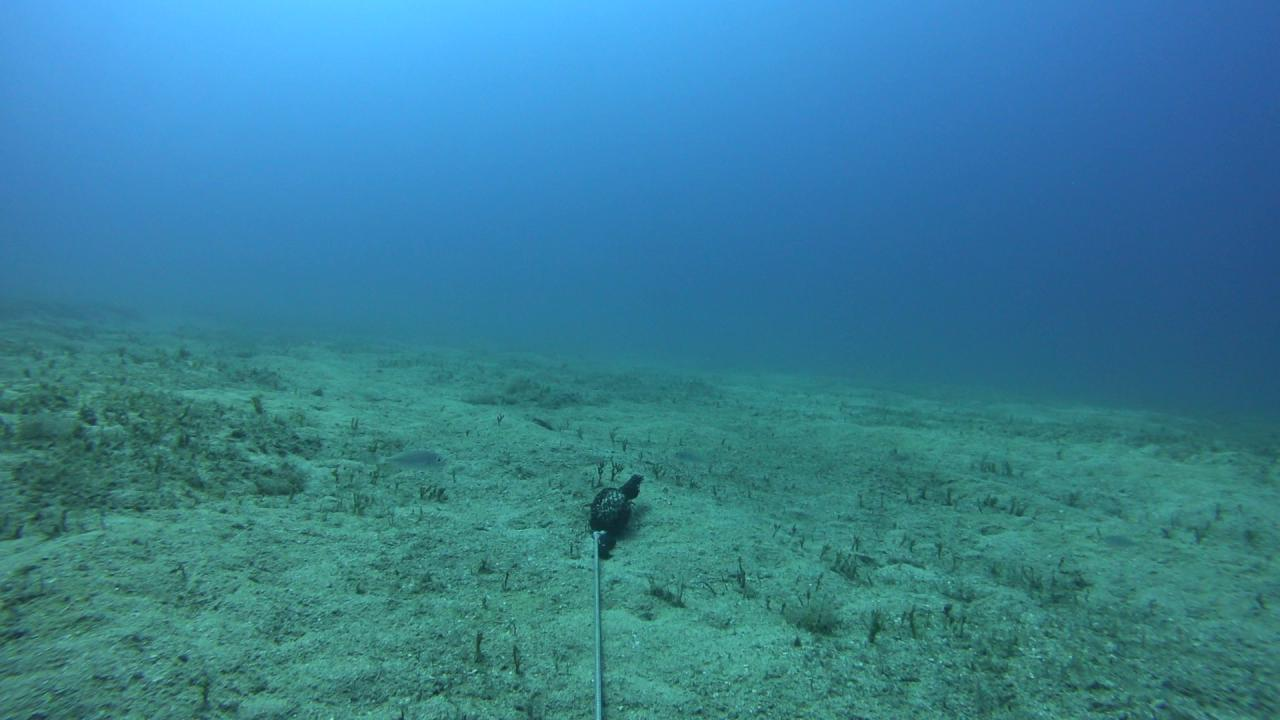pagellus: (365, 449, 447, 471), (669, 448, 710, 463)
